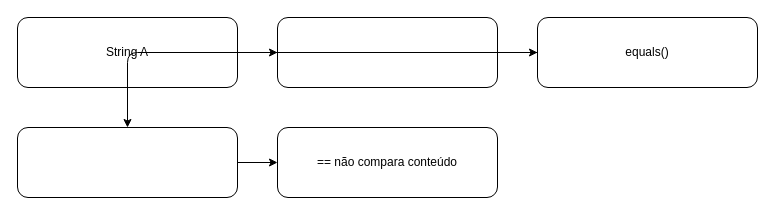
Some shapes in this 775 by 215 pixel diagram are drawn without their labels. The box of each missing label's shape, as (x1, y1, x2, y2) in pixels:
equalsIgnoreCase(): (16, 126, 238, 198)
String B: (276, 16, 498, 88)
